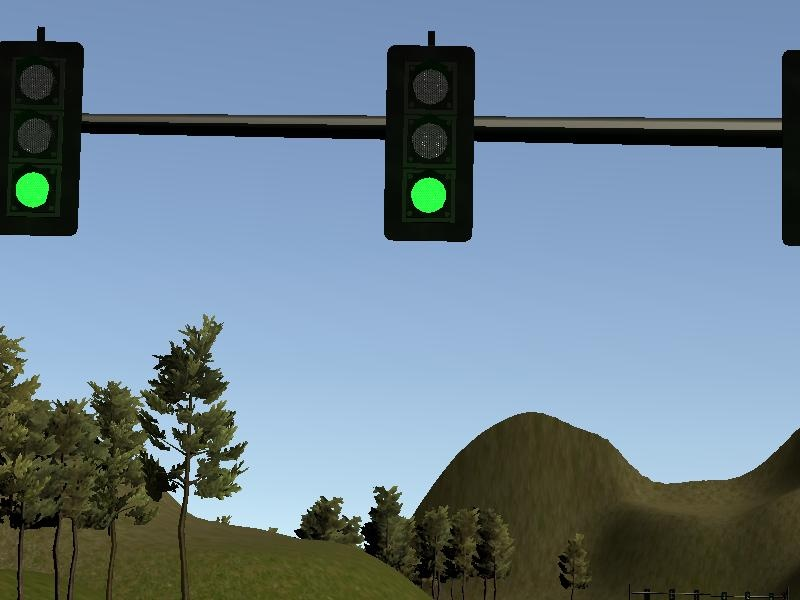GREEN: (383, 42, 478, 242), (2, 37, 85, 241)
